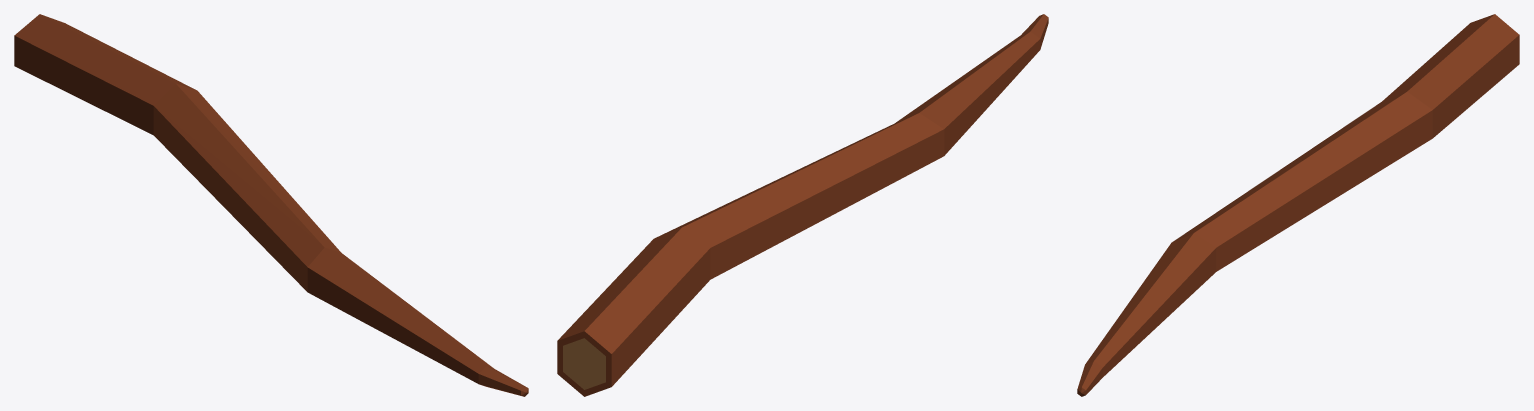
The model's file is Log_1.gltf.
3 renders of one model, left to right at view 1: azimuth 30°, elevation 25°; view 2: azimuth 150°, elevation 25°; view 3: azimuth 330°, elevation 25°, orthographic. The views are drawn at different scales.
Visible parts, largest first — view 1: Log_1; view 2: Log_1; view 3: Log_1.
Part boxes in pixels (box(x1,y1,x2,y2)): Log_1: box(14, 14, 528, 396); Log_1: box(557, 14, 1048, 396); Log_1: box(1077, 14, 1519, 396).
Bounding box in the file's own units: 0.1152 × 0.0962 × 1.14.
